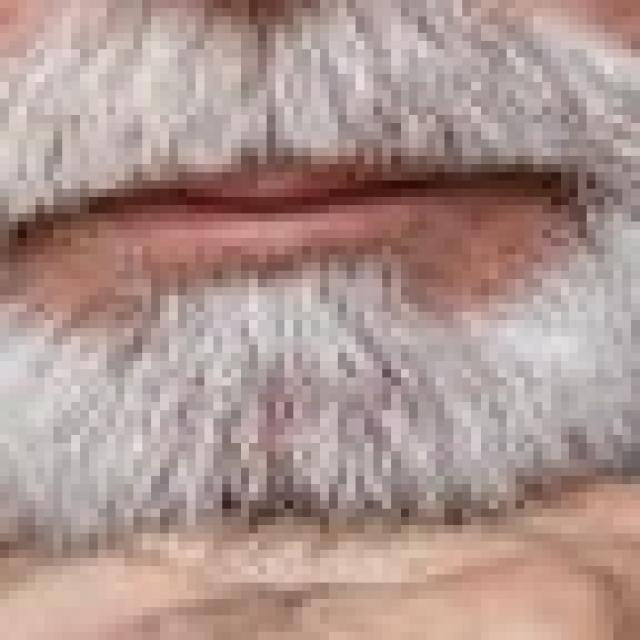closed-mouth: (27, 148, 596, 288)
